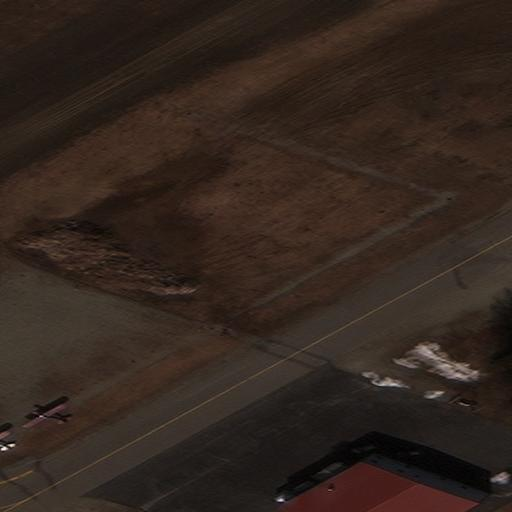Small Civil Transport: (22, 403, 68, 426)
